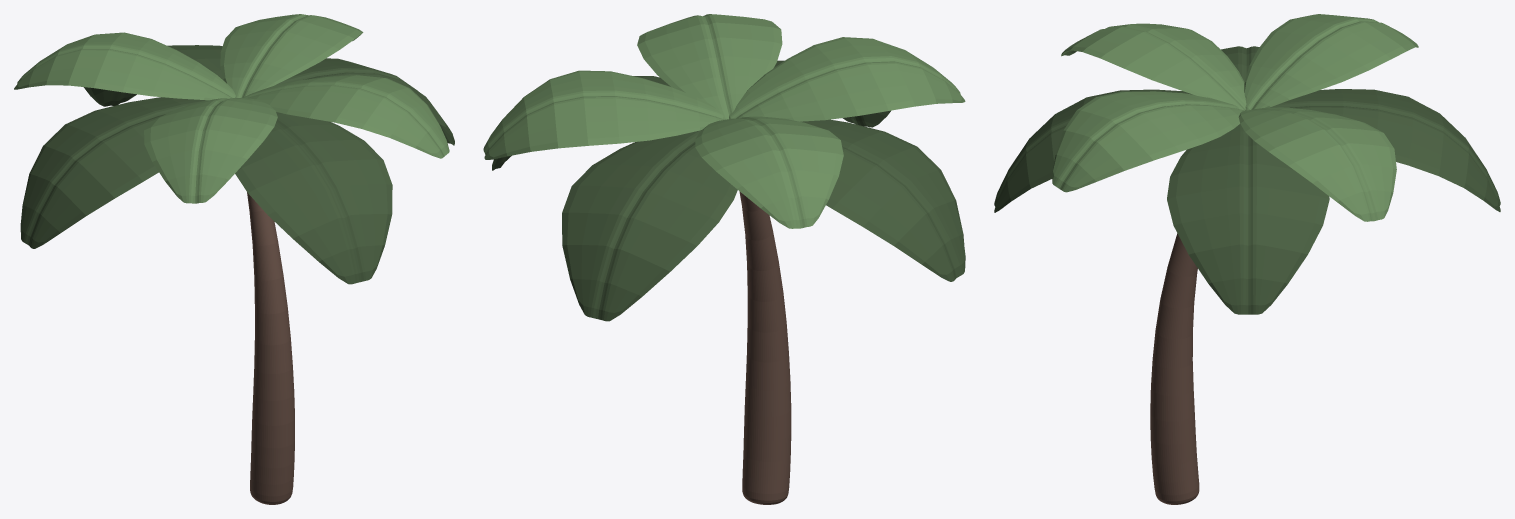
Rendered from palmeira.fbx.
The picture shows the model from 3 angles, left to right: view 1: azimuth 30°, elevation 25°; view 2: azimuth 150°, elevation 25°; view 3: azimuth 270°, elevation 25°; orthographic projection. The views are drawn at different scales.
Visible parts, largest first — view 1: Cylinder.001; view 2: Cylinder.001; view 3: Cylinder.001.
Boxes of the visible parts, x1,y1,x2,y2 form: Cylinder.001: (14, 14, 454, 504); Cylinder.001: (483, 14, 965, 504); Cylinder.001: (994, 14, 1500, 504).
Bounding box in the file's own units: 2.58 × 2.42 × 2.58.
